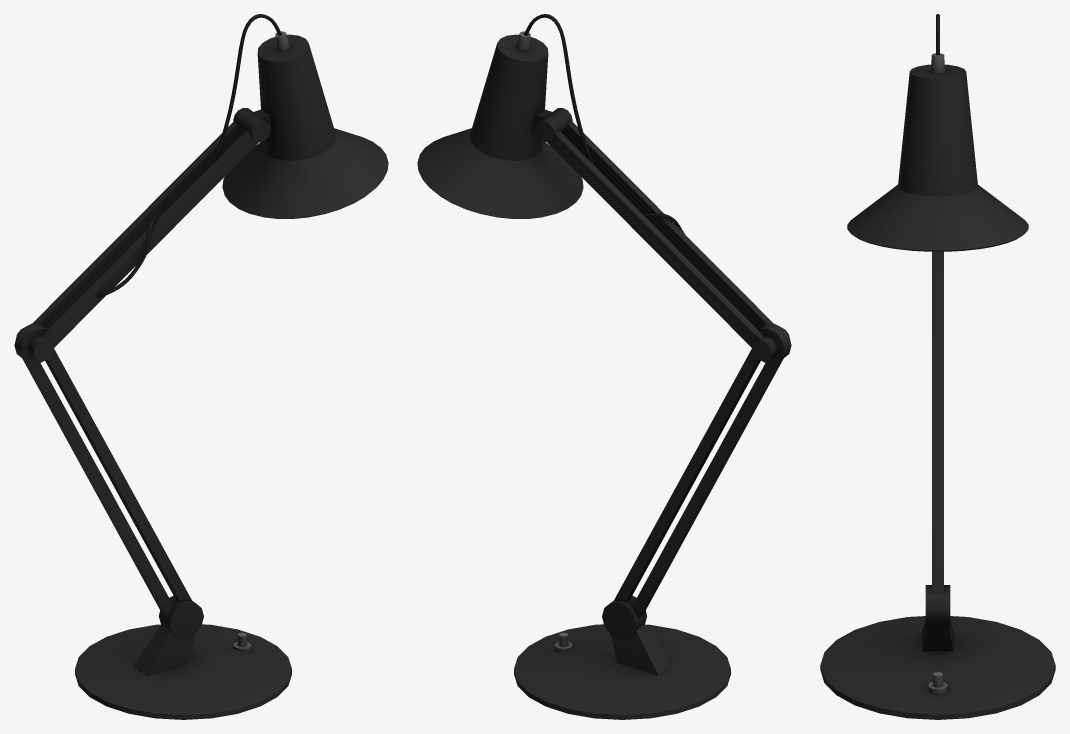
File: lamp.gltf
3 views of the same model, side by side, from view 1: azimuth 30°, elevation 25°; view 2: azimuth 150°, elevation 25°; view 3: azimuth 270°, elevation 25° (orthographic). The views are drawn at different scales.
Parts seen in each view (by area): view 1: lamp_a; view 2: lamp_a; view 3: lamp_a.
Part boxes in pixels (x1=…): lamp_a: x1=14, y1=14, x2=388, y2=719; lamp_a: x1=417, y1=14, x2=791, y2=719; lamp_a: x1=820, y1=14, x2=1055, y2=719.
Size of the model in its own units: 33.59 by 57.35 by 17.6.
1 material, 1 textured.
